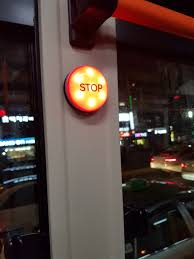bell: (63, 64, 112, 124)
